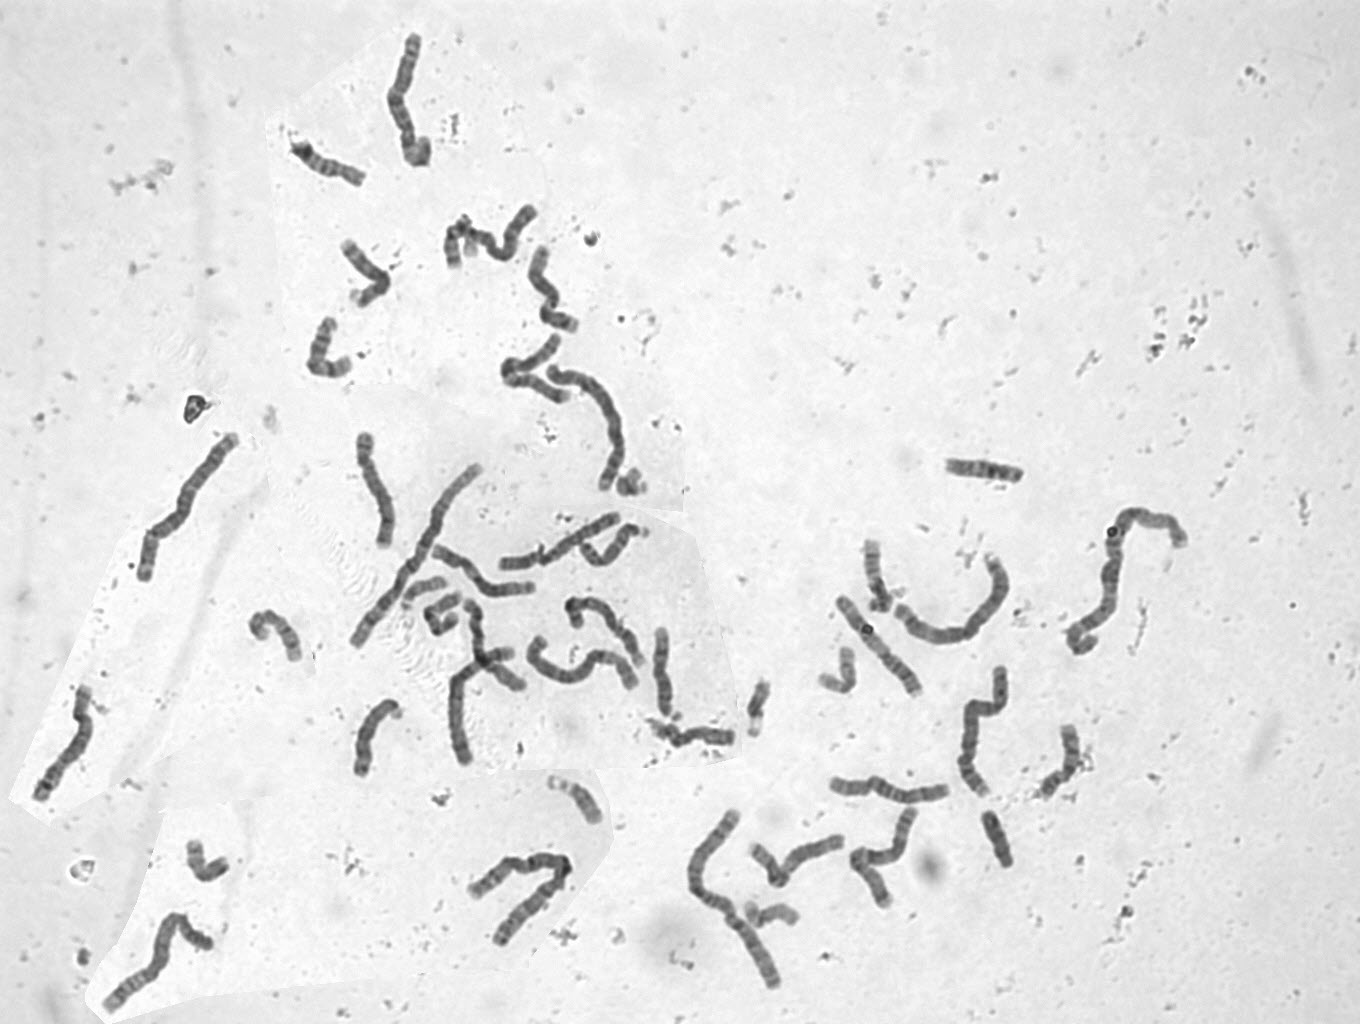chromosomes: (346, 459, 486, 652), (1060, 504, 1202, 664), (686, 802, 792, 992), (134, 427, 245, 591), (90, 904, 223, 1022), (894, 552, 1023, 648), (464, 845, 575, 950), (831, 592, 928, 702), (552, 362, 630, 496), (27, 683, 104, 812), (953, 660, 1021, 802), (445, 643, 517, 769), (851, 805, 926, 919), (384, 26, 441, 173), (527, 630, 645, 700), (459, 595, 530, 700), (562, 595, 650, 674), (497, 326, 578, 409), (428, 543, 542, 602), (744, 826, 851, 887), (1033, 714, 1096, 815), (524, 241, 588, 337), (355, 430, 400, 555), (282, 136, 371, 195), (824, 767, 953, 807), (303, 305, 361, 394), (464, 200, 545, 264), (540, 511, 625, 569), (352, 693, 409, 779), (338, 232, 396, 316), (650, 625, 697, 726), (974, 801, 1026, 887), (578, 521, 658, 570), (857, 534, 898, 626), (942, 455, 1033, 496), (544, 774, 611, 829), (248, 605, 310, 664), (178, 835, 234, 894), (815, 644, 860, 702), (441, 207, 473, 279), (741, 898, 814, 929), (398, 573, 450, 616), (744, 675, 776, 743), (423, 586, 462, 641), (496, 540, 548, 573), (614, 466, 652, 504)
